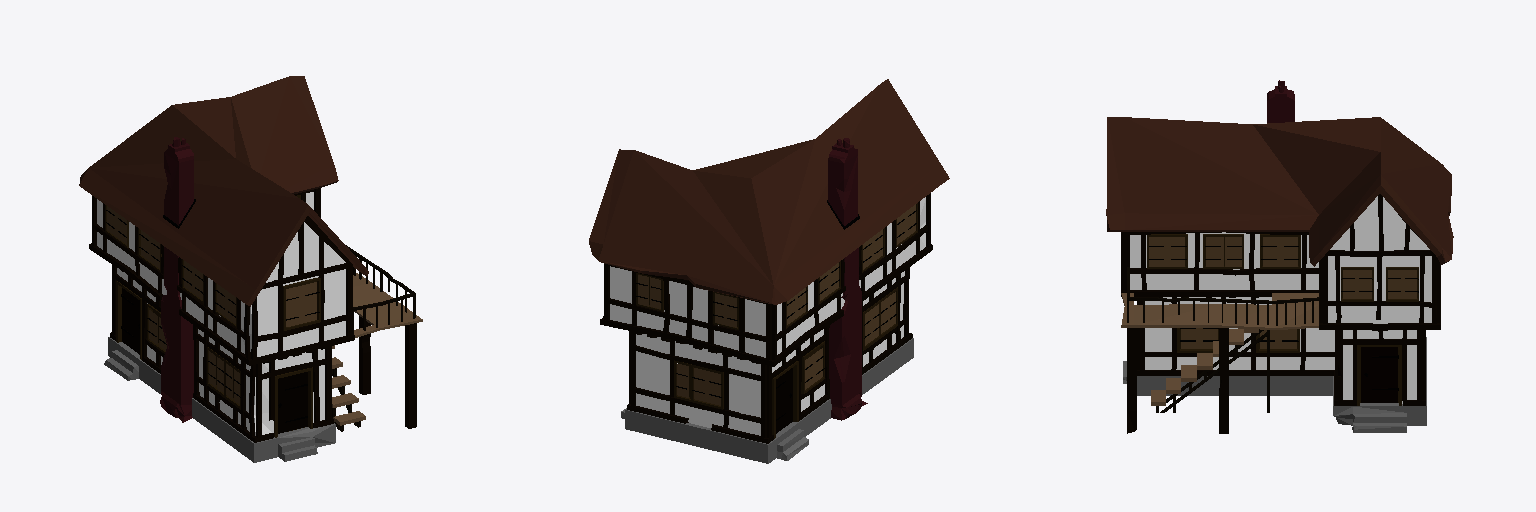
File: DoubleStoryTudor.obj
3 renders of one model, left to right at view 1: azimuth 30°, elevation 25°; view 2: azimuth 150°, elevation 25°; view 3: azimuth 270°, elevation 25°, orthographic.
Visible parts, largest first — view 1: Tudor_House_Main, Chimney, Window_Shutters, Window/Door_Framing, Door_Wood, Balcony_Stairs; view 2: Tudor_House_Main, Chimney, Window_Shutters, Window/Door_Framing, Door_Wood; view 3: Tudor_House_Main, Window_Shutters, Balcony_Stairs, Window/Door_Framing, Door_Wood, Chimney.
Part boxes in pixels (x1,y1,x2,y2): Tudor_House_Main: (79, 76, 422, 462); Chimney: (160, 137, 195, 422); Window_Shutters: (106, 206, 319, 404); Window/Door_Framing: (105, 195, 320, 437); Door_Wood: (121, 288, 307, 433); Balcony_Stairs: (332, 345, 365, 431); Tudor_House_Main: (589, 79, 949, 463); Chimney: (827, 138, 867, 420); Window_Shutters: (636, 204, 916, 405); Window/Door_Framing: (636, 203, 917, 438); Door_Wood: (776, 368, 792, 433); Tudor_House_Main: (1106, 117, 1453, 433); Window_Shutters: (1149, 237, 1418, 348); Balcony_Stairs: (1151, 293, 1274, 412); Window/Door_Framing: (1147, 234, 1418, 405); Door_Wood: (1361, 347, 1398, 402); Chimney: (1267, 80, 1294, 122).
Size of the model in its own units: 8.08 by 10.65 by 12.29.